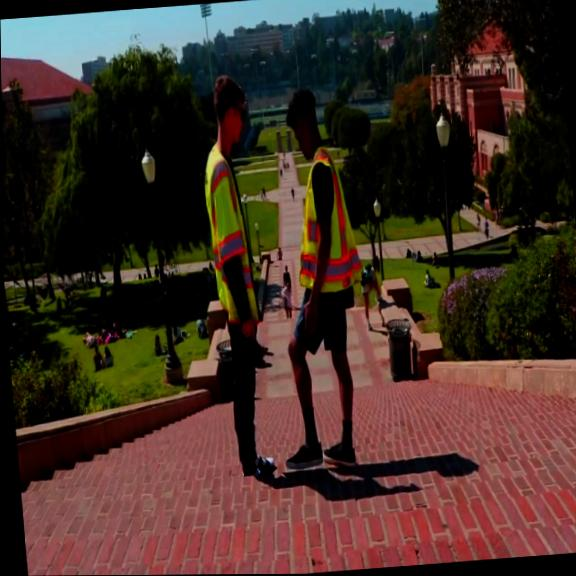safety_vest: (197, 140, 261, 329), (293, 144, 365, 294)
